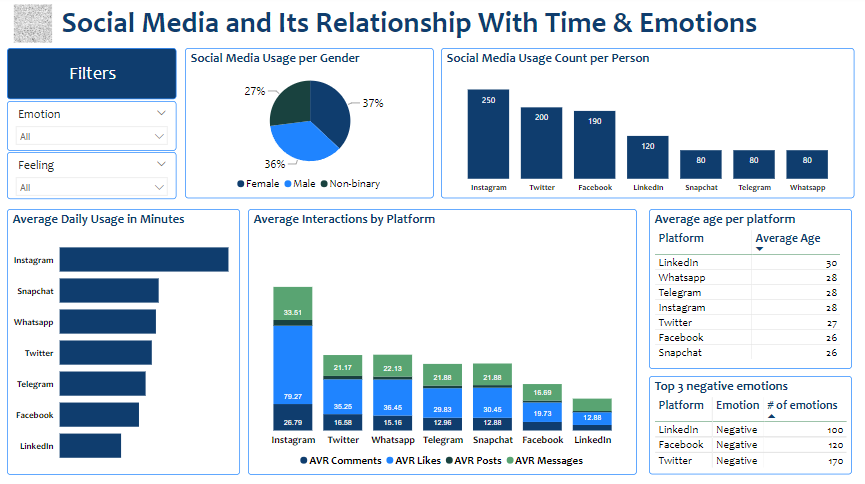

Layout of this report page (visuals, bound fields, positions):
{"tool":"powerbi","page":{"name":"Page 1","canvas":[1280,720],"ordinal":0},"visuals":[{"type":"pieChart","title":"Social Media Usage per Gender","fields":{"Category":["BDD_SocialMedia1.Gender"],"Y":["CountNonNull(BDD_SocialMedia1.Gender)"]},"box":[276.6,76.6,364.2,220.4],"z":0},{"type":"clusteredColumnChart","title":"Social Media Usage Count per Person","fields":{"Category":["BDD_SocialMedia1.Platform"],"Y":["CountNonNull(BDD_SocialMedia1.Platform)"]},"box":[651.7,76.6,604.8,220.4],"z":1000},{"type":"tableEx","title":"Average age per platform","fields":{"Values":["BDD_SocialMedia1.Platform","BDD_SocialMedia1.# Edad Promedio"]},"box":[954.9,311,296.9,234.4],"z":2000},{"type":"tableEx","title":"Top 3 negative emotions","fields":{"Values":["BDD_SocialMedia1.Platform","BDD_SocialMedia1.Type_of_emotion1","BDD_SocialMedia1.Type_of_emotion"]},"box":[954.9,556.4,296.9,143.8],"z":3000},{"type":"clusteredBarChart","title":"Average Daily Usage in Minutes","fields":{"Y":["Avg(BDD_SocialMedia1.Daily_Usage_Time (minutes))"],"Category":["BDD_SocialMedia1.Platform"]},"box":[15.6,311,340.7,389.2],"z":4000},{"type":"slicer","fields":{"Values":["BDD_SocialMedia1.Type_of_emotion"]},"box":[15.6,153.2,248.5,73.5],"z":5000},{"type":"columnChart","title":"Average Interactions by Platform","fields":{"Category":["BDD_SocialMedia1.Platform"],"Y":["Avg(BDD_SocialMedia1.Comments_Received_Per_Day)","Avg(BDD_SocialMedia1.Likes_Received_Per_Day)","Avg(BDD_SocialMedia1.Posts_Per_Day)","Avg(BDD_SocialMedia1.Messages_Sent_Per_Day)"]},"box":[368.8,311,568.9,389.2],"z":6000},{"type":"slicer","fields":{"Values":["BDD_SocialMedia1.Dominant_Emotion"]},"box":[15.6,228.2,248.5,68.8],"z":7000},{"type":"textbox","box":[15.6,76.6,248.5,75],"z":8000},{"type":"textbox","box":[90.6,7.8,1056.5,65.6],"z":9000},{"type":"image","box":[15.6,7.8,75,65.6],"z":10000}]}

Visuals, with their boxes in screenshot pixels (x1, y1, x2, y2), scaled from the page's 1280x720 canvas onto the 865x484 screenshot:
"Social Media Usage per Gender" pieChart: 187/51/433/200
"Social Media Usage Count per Person" clusteredColumnChart: 440/51/849/200
"Average age per platform" tableEx: 645/209/846/367
"Top 3 negative emotions" tableEx: 645/374/846/471
"Average Daily Usage in Minutes" clusteredBarChart: 11/209/241/471
slicer - BDD_SocialMedia1.Type_of_emotion: 11/103/178/152
"Average Interactions by Platform" columnChart: 249/209/634/471
slicer - BDD_SocialMedia1.Dominant_Emotion: 11/153/178/200
textbox: 11/51/178/102
textbox: 61/5/775/49
image: 11/5/61/49
